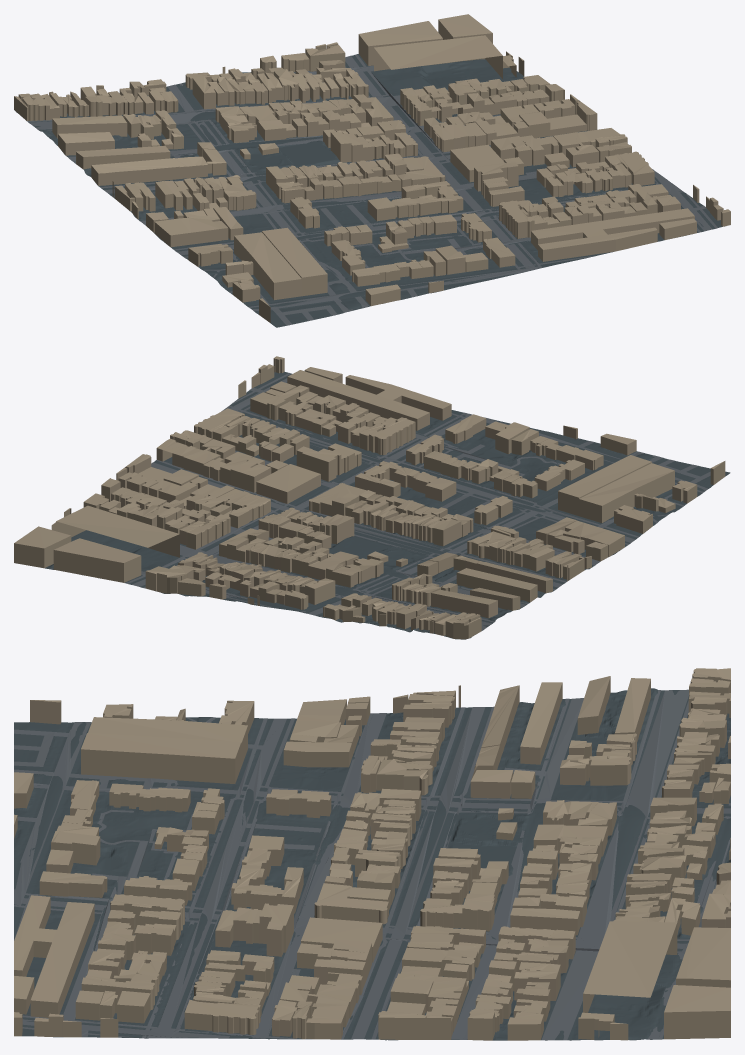
The model's file is epsg26910-1433-10888.lod0.glb.
3 views of the same model, one above another, from view 1: azimuth 30°, elevation 25°; view 2: azimuth 150°, elevation 25°; view 3: azimuth 270°, elevation 25° (orthographic). The views are drawn at different scales.
Visible parts, largest first — view 1: epsg26910-1433-10888-lod0; view 2: epsg26910-1433-10888-lod0; view 3: epsg26910-1433-10888-lod0.
Boxes of the visible parts, box(x1,y1,x2,y2) form: epsg26910-1433-10888-lod0: box(14, 14, 730, 327); epsg26910-1433-10888-lod0: box(14, 356, 730, 639); epsg26910-1433-10888-lod0: box(14, 668, 730, 1040).
Size of the model in its own units: 384 by 42.05 by 384.
